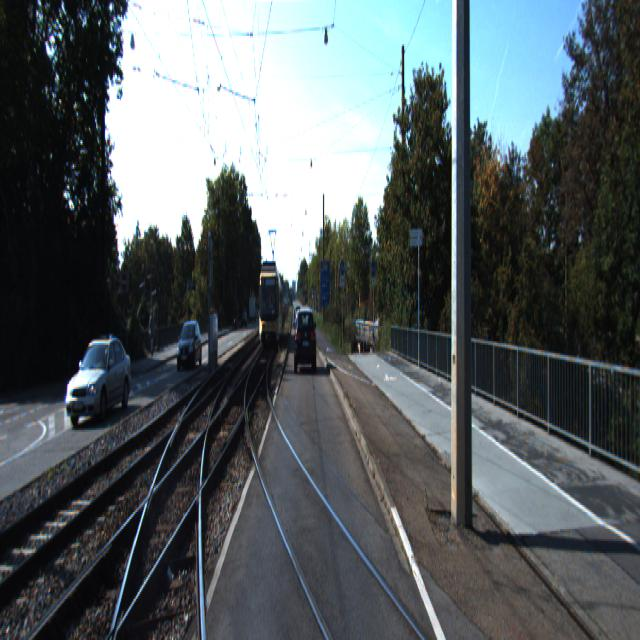Car: (64, 334, 133, 432), (257, 254, 284, 350), (175, 320, 204, 373), (295, 308, 315, 373)
